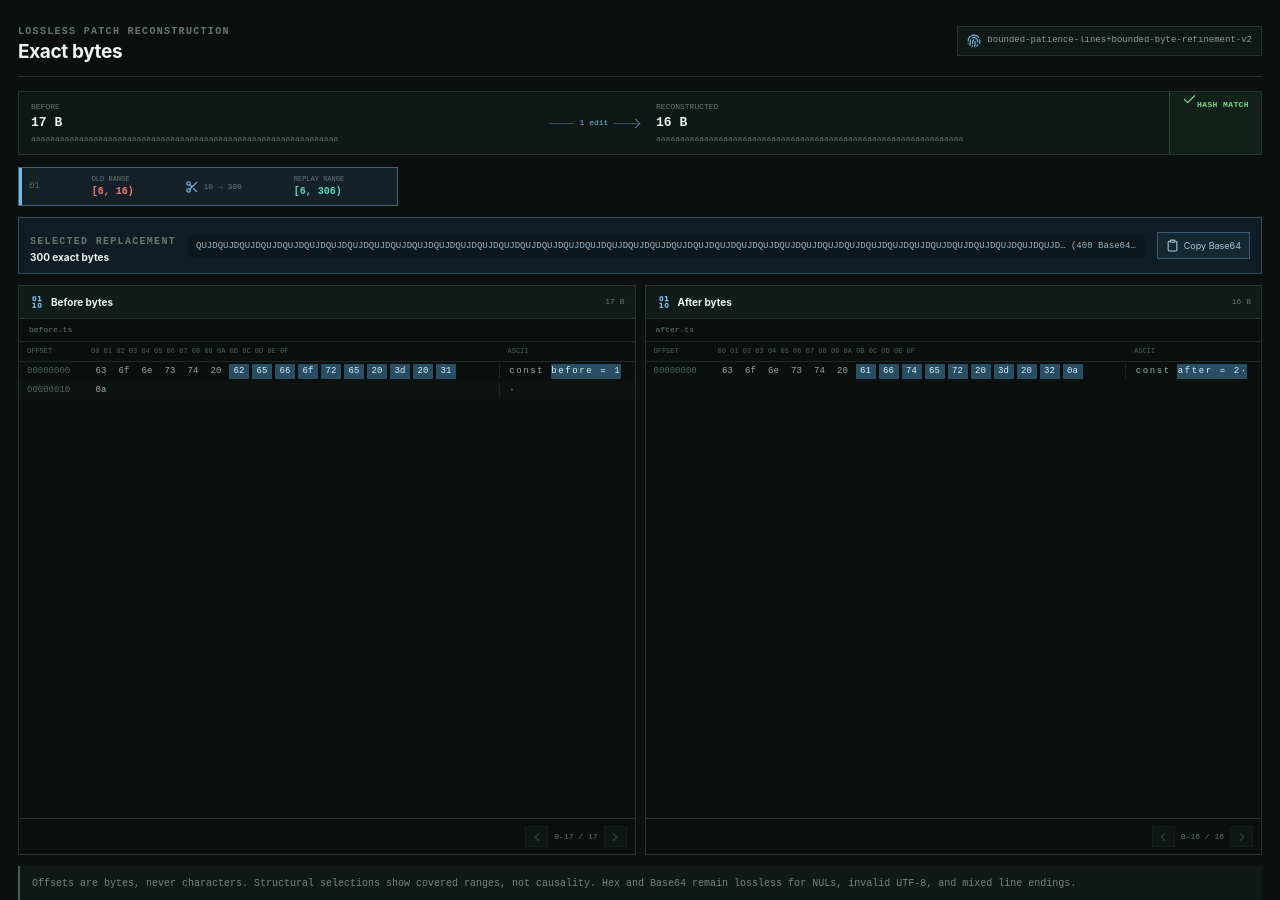
Test: ByteView replacement details › renders a bounded Base64 preview but copies the complete replacement
The image size is (1280, 900).
Click the button "Copy Base64" at (1203, 246), box [1157,232,1250,259]
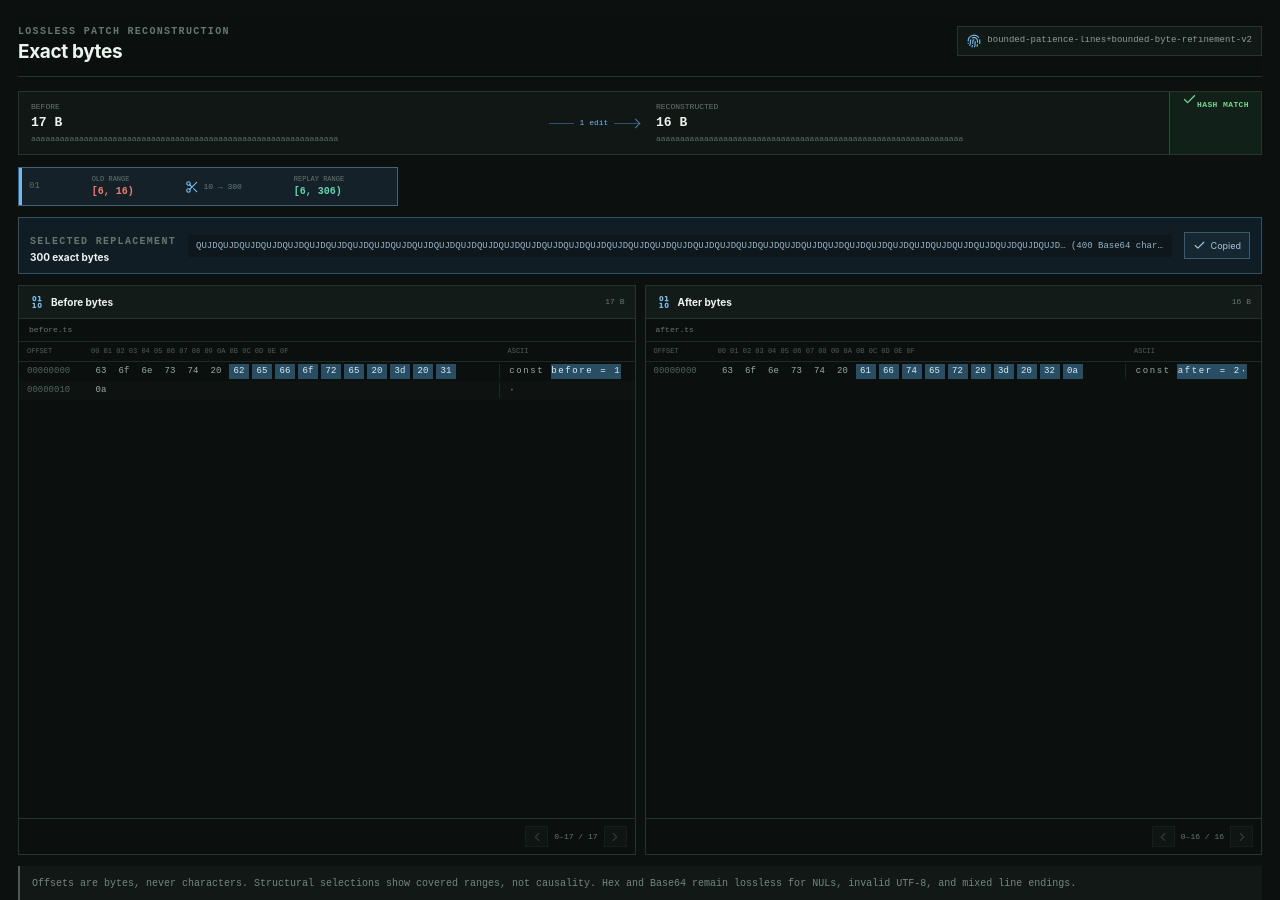
Expected: the button "Copied" is shown, [1184,232,1250,259]
